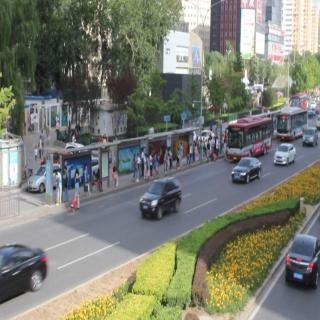BigCar: (224, 109, 271, 160), (279, 106, 309, 138)
Car: (0, 240, 50, 306), (282, 219, 320, 300), (134, 174, 184, 228), (230, 154, 264, 188), (272, 138, 297, 170), (302, 124, 318, 148), (79, 294, 80, 295)
